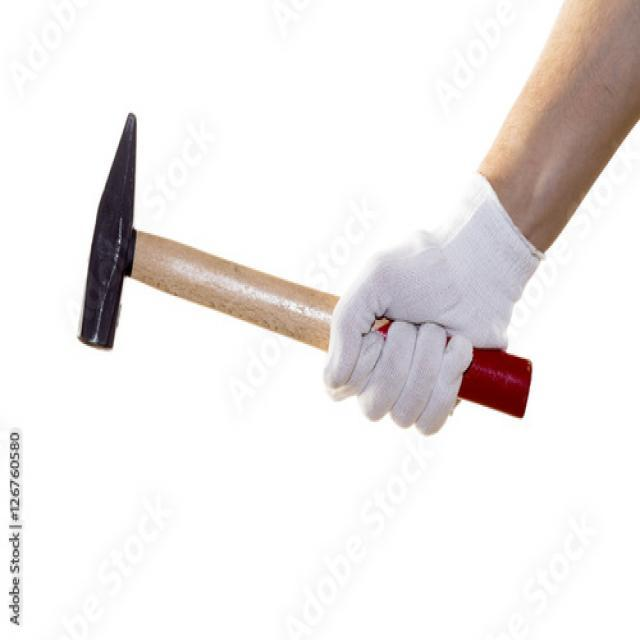hammer: (70, 106, 536, 430)
